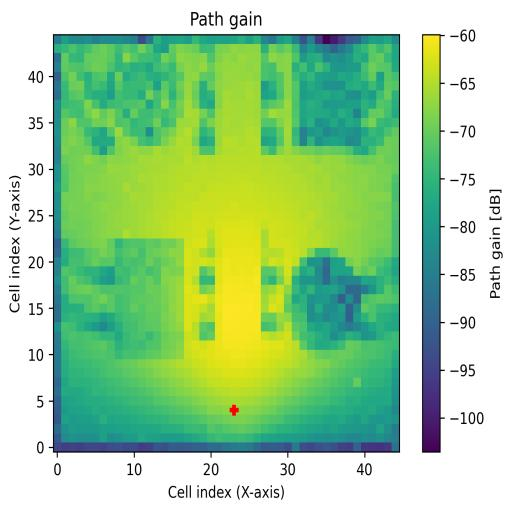Concrete: (292, 44, 376, 154)
Glass: (115, 52, 185, 146)
Metal: (292, 249, 384, 350)
Wood: (115, 239, 185, 360)
